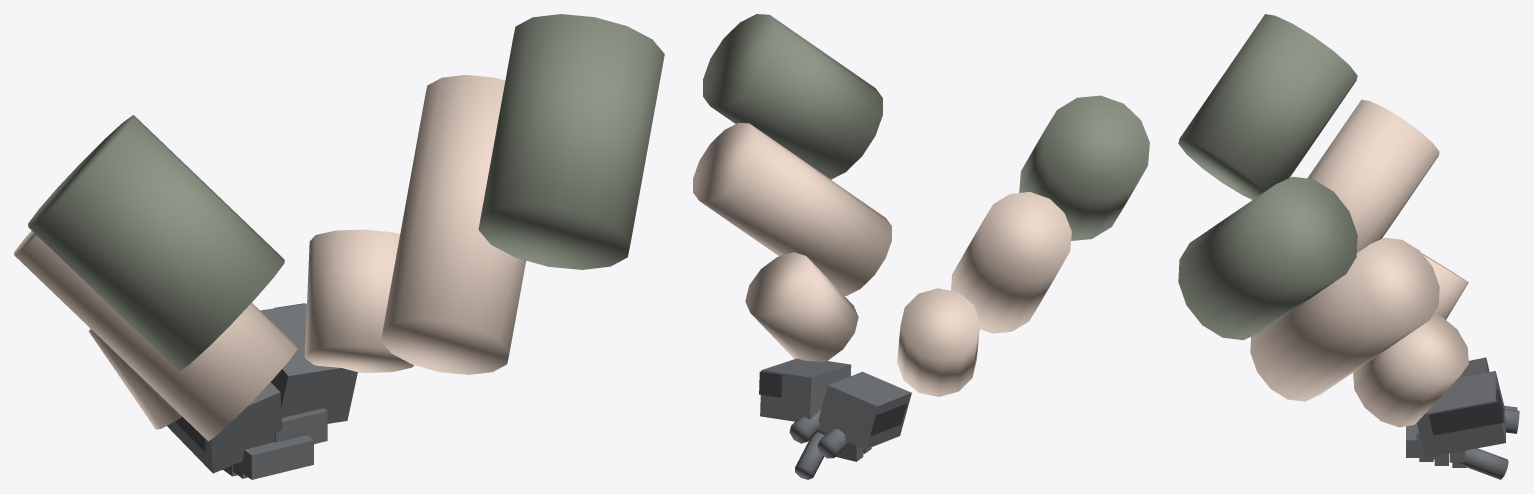
Rendered from fps_arms.glb.
3 renders of one model, left to right at view 1: azimuth 30°, elevation 25°; view 2: azimuth 150°, elevation 25°; view 3: azimuth 270°, elevation 25°, orthographic. The views are drawn at different scales.
Visible parts, largest first — view 1: FPS_CombatArms; view 2: FPS_CombatArms; view 3: FPS_CombatArms.
Part boxes in pixels (x1=…): FPS_CombatArms: x1=14, y1=14, x2=664, y2=479; FPS_CombatArms: x1=693, y1=14, x2=1149, y2=479; FPS_CombatArms: x1=1178, y1=14, x2=1519, y2=479.
Bounding box in the file's own units: 0.4805 × 0.3684 × 0.3103.
